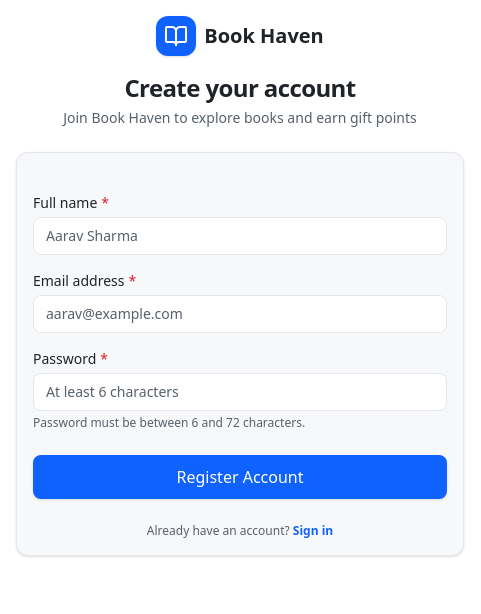
Test: Auth Pages › renders register form with full name, email, and password
expect the heading "Create your account" is shown: met, box left=124, top=71, right=356, bottom=104
expect the field labelled "Full name*" is shown: met, box left=33, top=217, right=447, bottom=255
Click the button "Register Account".
click(240, 477)  # box left=33, top=455, right=447, bottom=499
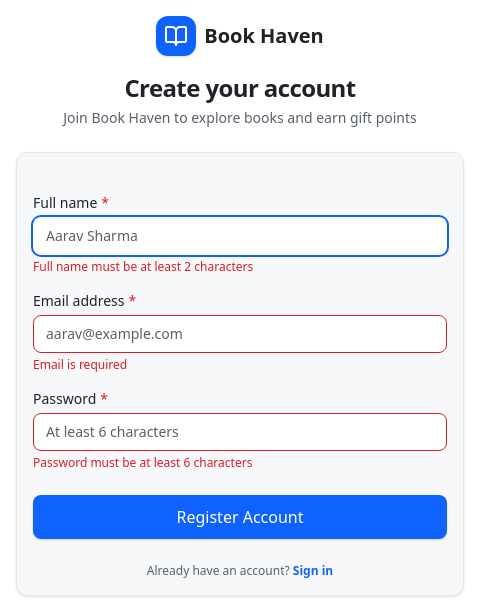
expect the text "Full name must be at least 2 characters" is shown: met, box left=33, top=258, right=253, bottom=275
expect the text "Email is required" is shown: met, box left=33, top=356, right=127, bottom=373
